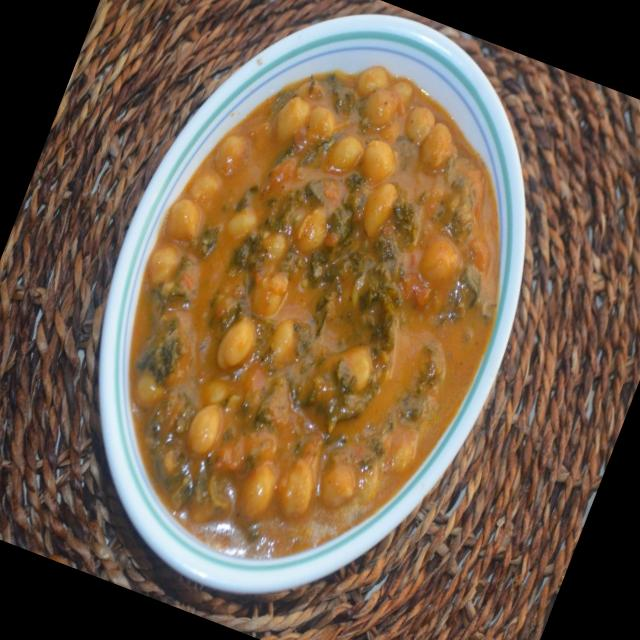Chole: (59, 14, 568, 615)
